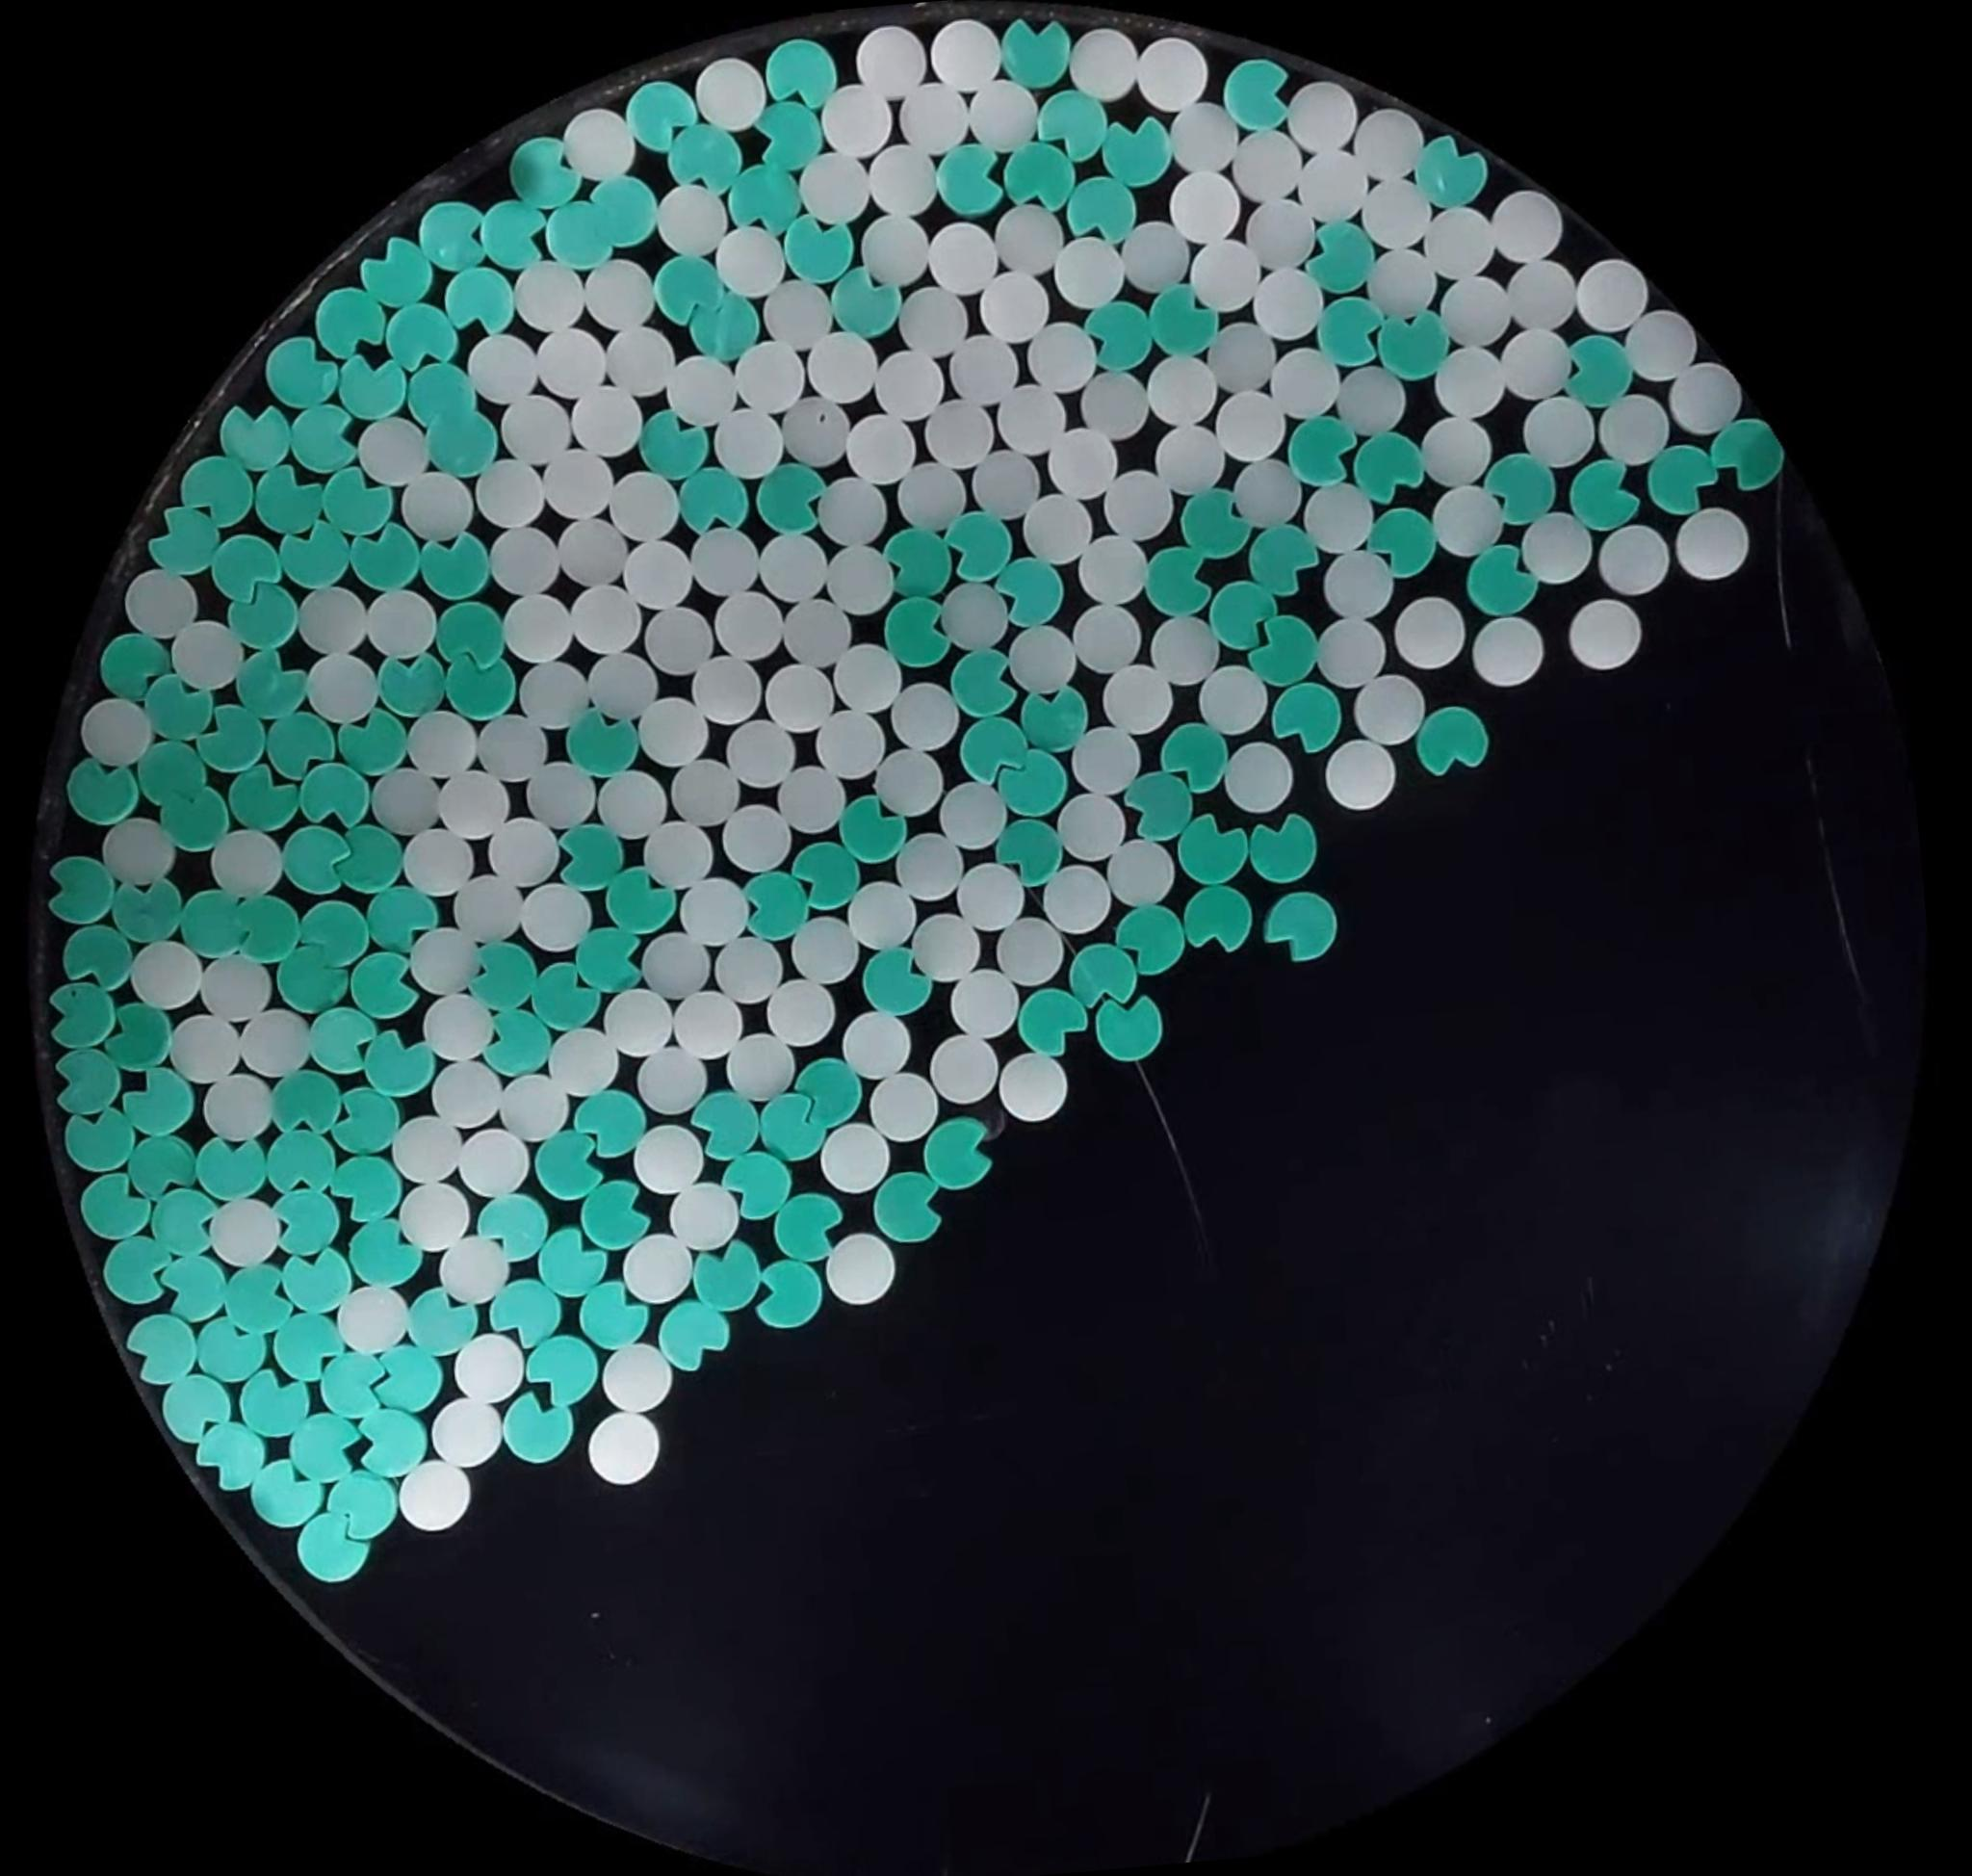no-convexa1: (222, 636, 319, 726), (185, 696, 282, 779), (1243, 520, 1326, 615), (879, 516, 961, 604), (322, 705, 414, 784), (373, 299, 461, 380), (426, 389, 502, 483), (403, 359, 486, 444), (1310, 291, 1394, 372), (222, 756, 310, 833), (306, 1348, 389, 1429), (1412, 129, 1491, 213), (280, 1409, 364, 1488), (136, 738, 218, 817), (176, 451, 255, 534), (1412, 699, 1491, 782), (544, 192, 616, 282), (1259, 888, 1342, 965), (363, 883, 445, 960), (364, 1342, 449, 1418), (100, 995, 176, 1080), (588, 169, 657, 261), (780, 210, 859, 289), (345, 1214, 424, 1293), (504, 134, 583, 213), (1085, 292, 1162, 373), (56, 918, 137, 995), (42, 849, 120, 930), (326, 1083, 407, 1161), (1479, 449, 1555, 532), (146, 502, 225, 580), (312, 284, 389, 363), (414, 527, 493, 604), (1463, 543, 1542, 620), (755, 1085, 833, 1164), (125, 1309, 202, 1388), (1245, 609, 1322, 689), (525, 1330, 602, 1409), (1373, 305, 1451, 384), (655, 1295, 732, 1374), (433, 597, 511, 676), (1000, 136, 1078, 215), (185, 1420, 264, 1497), (370, 648, 449, 726), (331, 817, 410, 895), (1143, 278, 1218, 359), (352, 1404, 433, 1480), (343, 516, 419, 597), (1174, 481, 1248, 564), (56, 1099, 141, 1171), (440, 261, 518, 338), (533, 1222, 611, 1300), (414, 197, 491, 275), (327, 1150, 405, 1228), (276, 1240, 354, 1318), (49, 1043, 127, 1120), (1363, 504, 1440, 581), (754, 462, 831, 539), (1352, 428, 1430, 506), (725, 160, 803, 238), (666, 120, 743, 197), (1174, 812, 1252, 890), (357, 234, 435, 312), (1034, 86, 1111, 164), (1245, 810, 1322, 888), (120, 1064, 197, 1141), (1708, 416, 1785, 493), (250, 462, 326, 541), (276, 821, 356, 897), (826, 262, 901, 342), (1063, 169, 1139, 248), (63, 754, 143, 830), (401, 1282, 481, 1358), (262, 333, 338, 412), (1560, 331, 1636, 410), (294, 1510, 373, 1585), (120, 1131, 202, 1203), (319, 463, 394, 541), (623, 76, 701, 151), (1301, 220, 1377, 298), (1268, 678, 1343, 756), (222, 578, 299, 654), (474, 196, 551, 271), (44, 976, 121, 1052), (1565, 456, 1641, 534), (651, 254, 727, 331), (576, 1177, 651, 1254), (500, 1390, 578, 1466), (440, 648, 518, 724), (215, 396, 291, 474), (158, 1370, 234, 1448), (569, 1085, 648, 1159), (294, 897, 373, 971), (732, 863, 813, 935), (194, 1318, 276, 1388), (1019, 678, 1090, 761), (1122, 764, 1192, 847), (132, 668, 218, 735), (572, 921, 648, 997), (526, 960, 602, 1036), (76, 1168, 151, 1244), (676, 462, 752, 537), (762, 33, 838, 109), (576, 1277, 651, 1353), (1643, 444, 1718, 520), (333, 345, 408, 421), (192, 1131, 269, 1205), (563, 706, 641, 780), (474, 1189, 551, 1263), (294, 759, 372, 833), (264, 1122, 338, 1200), (1220, 56, 1294, 134), (956, 712, 1034, 786), (1180, 879, 1254, 956), (998, 12, 1072, 90), (248, 1455, 326, 1529), (324, 1467, 401, 1541), (690, 287, 764, 365), (151, 1254, 229, 1328), (639, 403, 713, 481), (289, 393, 361, 472), (933, 143, 1007, 218), (1090, 990, 1166, 1064), (792, 1053, 866, 1129), (921, 1117, 995, 1193), (872, 1170, 946, 1245), (231, 891, 305, 967), (266, 1067, 343, 1140), (468, 939, 541, 1016), (1284, 414, 1356, 491), (1100, 114, 1173, 192), (880, 594, 953, 671), (143, 1191, 220, 1263), (199, 534, 278, 604), (475, 1006, 555, 1076), (792, 835, 859, 918), (602, 865, 676, 939), (946, 646, 1019, 720), (532, 1127, 606, 1201), (99, 1233, 173, 1307), (269, 1311, 343, 1385), (995, 749, 1069, 823), (859, 946, 933, 1020), (720, 1147, 794, 1221), (769, 1191, 843, 1265), (752, 97, 826, 171), (1157, 720, 1231, 794), (942, 507, 1016, 581), (1014, 986, 1088, 1060), (1067, 937, 1141, 1011), (690, 1240, 762, 1316), (236, 1369, 312, 1441), (836, 793, 909, 868), (482, 1281, 558, 1353), (109, 872, 181, 948), (269, 521, 342, 597), (1113, 900, 1185, 976), (1206, 581, 1278, 657), (361, 1027, 431, 1104), (1000, 555, 1069, 634), (176, 888, 250, 960), (752, 102, 826, 174), (345, 949, 419, 1022), (993, 816, 1067, 888), (752, 1258, 826, 1330), (222, 1261, 294, 1335), (93, 627, 166, 701), (246, 1459, 322, 1529), (261, 1185, 338, 1254), (275, 944, 352, 1013), (690, 1089, 762, 1161), (158, 780, 229, 854), (259, 710, 333, 779), (1146, 544, 1215, 618), (555, 821, 627, 888), (305, 1008, 373, 1075)
